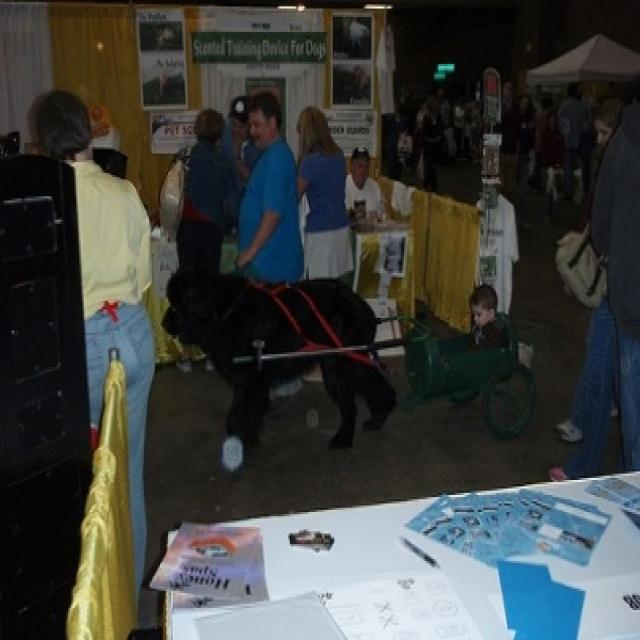Dog: (150, 260, 426, 464)
